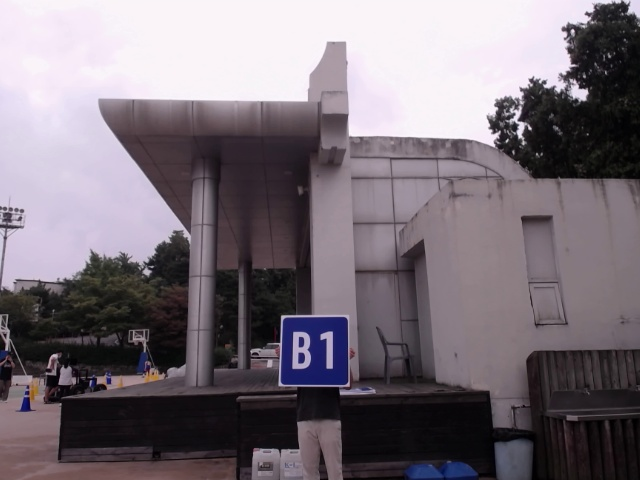delivery_b1: (279, 315, 350, 386)
